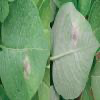Potato leaf late blight: (50, 2, 99, 98), (2, 0, 49, 98)
